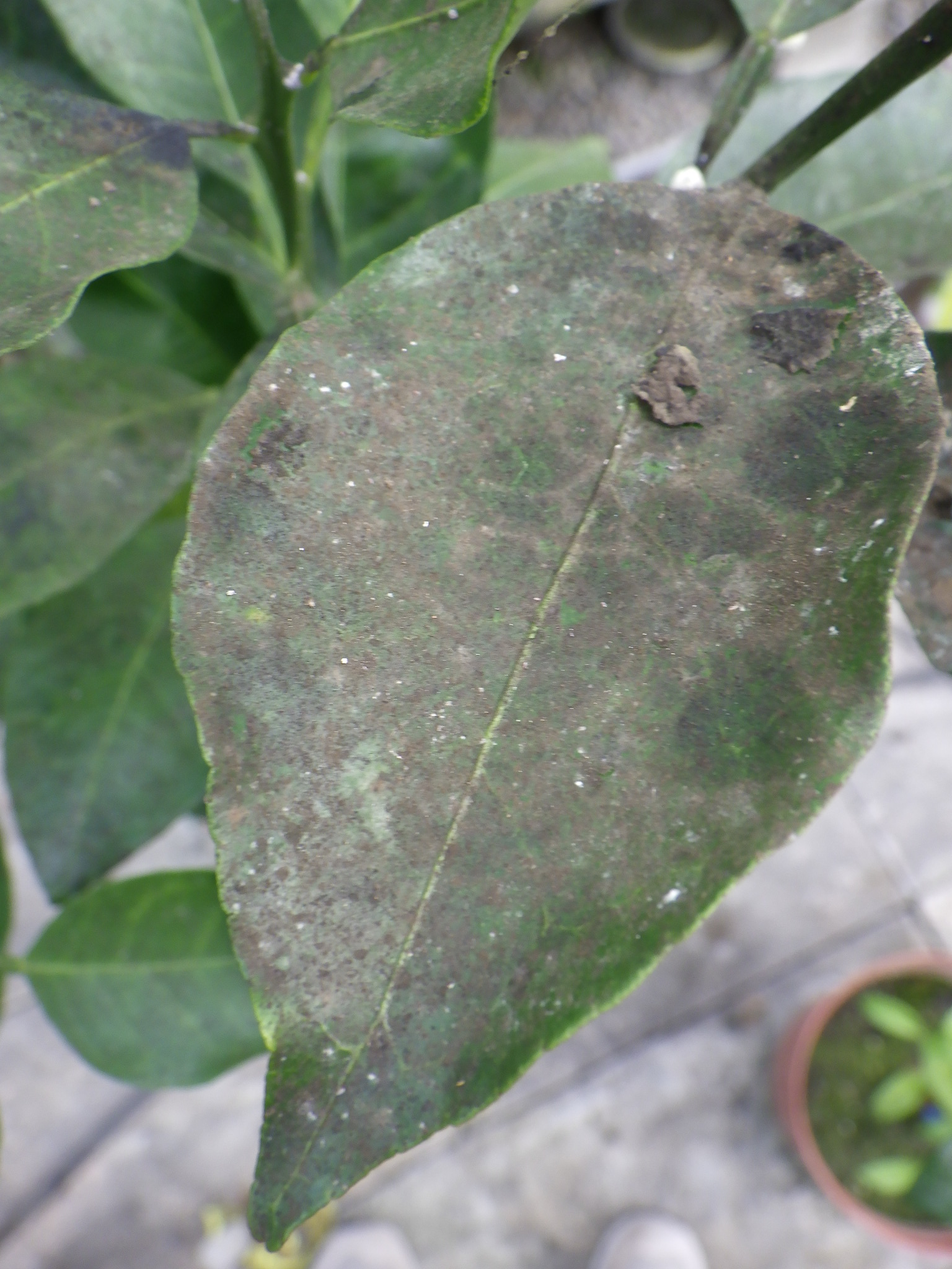Sooty_Mold: (173, 183, 944, 1242)
